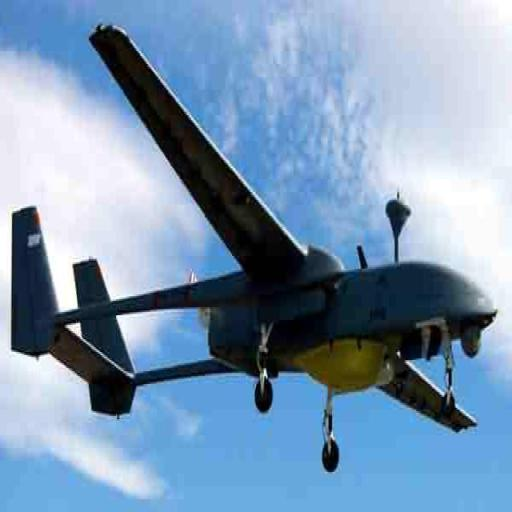uav: (10, 21, 500, 486)
